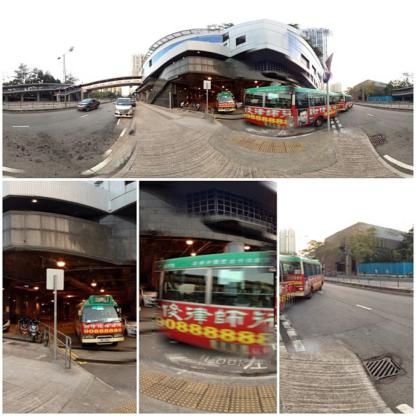Bus: (153, 249, 273, 356), (247, 91, 336, 127), (78, 294, 127, 344), (281, 252, 325, 298), (216, 90, 235, 112), (336, 94, 354, 109)
